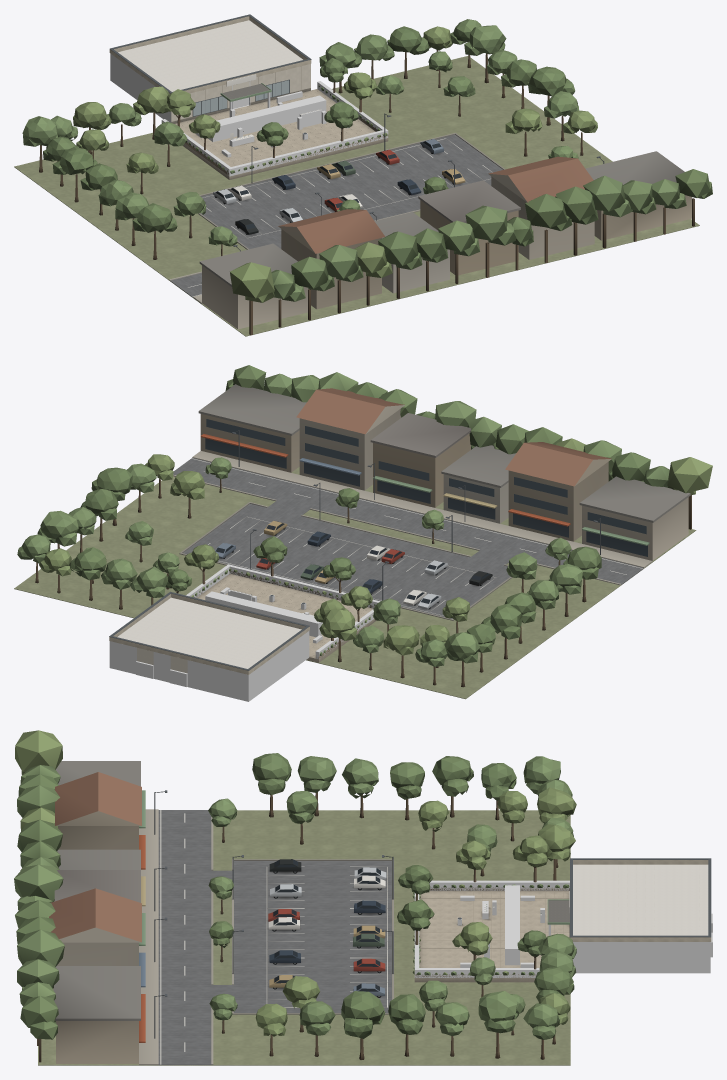
File: store.glb
3 views of the same model, one above another, from view 1: azimuth 30°, elevation 25°; view 2: azimuth 150°, elevation 25°; view 3: azimuth 270°, elevation 25° (orthographic). The views are drawn at different scales.
Parts seen in each view (by area): view 1: PARVIS_CONTEXT, PARVIS_GROUND, PARVIS_PARKING, STORE_CEILING, STORE_FACADE, PARVIS_PAVING, PARVIS_TREES, TRIGGER_PARVIS, COL_PARVIS_S, COL_WALL_W, PARVIS_SLAB, STORE_SHOP_WINDOWS; view 2: PARVIS_CONTEXT, PARVIS_GROUND, PARVIS_PARKING, STORE_CEILING, PARVIS_TREES, PARVIS_PAVING, STORE_FACADE, COL_WALL_W, COL_WALL_N_W, TRIGGER_PARVIS, COL_PARVIS_S, COL_WALL_N_BEEF_E; view 3: PARVIS_CONTEXT, PARVIS_GROUND, PARVIS_PARKING, STORE_CEILING, PARVIS_PAVING, PARVIS_TREES, COL_WALL_E, STORE_FACADE, COL_PARVIS_W, TRIGGER_PARVIS, COL_PARVIS_E, STORE_CANOPY (+2 smaller).
Boxes of the visible parts, <box> form: PARVIS_CONTEXT: <box>22,19,712,335</box>; PARVIS_GROUND: <box>14,56,699,336</box>; PARVIS_PARKING: <box>170,134,502,297</box>; STORE_CEILING: <box>118,20,302,91</box>; STORE_FACADE: <box>109,14,311,123</box>; PARVIS_PAVING: <box>175,89,375,166</box>; PARVIS_TREES: <box>164,58,376,157</box>; TRIGGER_PARVIS: <box>208,95,326,141</box>; COL_PARVIS_S: <box>227,129,388,176</box>; COL_WALL_W: <box>110,54,171,122</box>; PARVIS_SLAB: <box>183,89,388,179</box>; STORE_SHOP_WINDOWS: <box>193,80,289,115</box>; PARVIS_CONTEXT: <box>17,365,712,687</box>; PARVIS_GROUND: <box>14,467,696,699</box>; PARVIS_PARKING: <box>173,458,643,618</box>; STORE_CEILING: <box>117,597,301,668</box>; PARVIS_TREES: <box>165,536,372,640</box>; PARVIS_PAVING: <box>197,573,372,658</box>; STORE_FACADE: <box>109,591,309,674</box>; COL_WALL_W: <box>247,631,309,701</box>; COL_WALL_N_W: <box>187,660,246,701</box>; TRIGGER_PARVIS: <box>205,591,322,637</box>; COL_PARVIS_S: <box>229,564,380,608</box>; COL_WALL_N_BEEF_E: <box>111,641,136,674</box>; PARVIS_CONTEXT: <box>14,730,576,1064</box>; PARVIS_GROUND: <box>38,810,570,1065</box>; PARVIS_PARKING: <box>158,810,391,1065</box>; STORE_CEILING: <box>573,864,708,935</box>; PARVIS_PAVING: <box>419,891,569,967</box>; PARVIS_TREES: <box>397,835,552,969</box>; COL_WALL_E: <box>572,942,710,973</box>; STORE_FACADE: <box>569,858,711,941</box>; COL_PARVIS_W: <box>429,880,569,890</box>; TRIGGER_PARVIS: <box>505,885,519,965</box>; COL_PARVIS_E: <box>414,968,539,977</box>; STORE_CANOPY: <box>547,899,569,924</box>.
Bounding box in the file's own units: 84.7 × 12.27 × 92.79.
86 materials, 32 textured.
